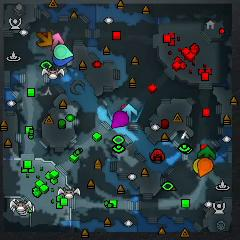p1: (53, 55, 73, 66)
p2: (54, 44, 73, 60)
p3: (112, 111, 129, 128)
p4: (194, 158, 200, 174)
p5: (197, 157, 213, 178)
x1: (52, 33, 64, 47)
x3: (122, 104, 137, 122)
x4: (198, 146, 216, 160)
x5: (37, 31, 53, 48)
